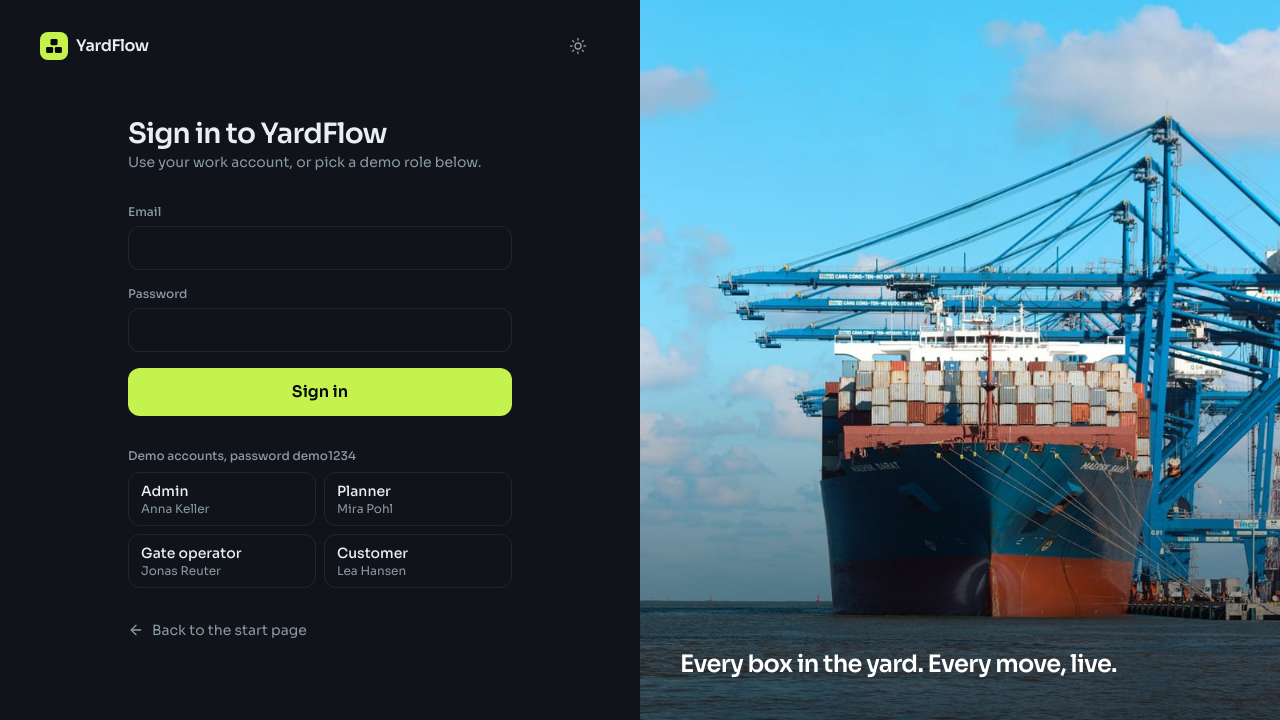
login page › shows validation errors next to the fields
Click the button "Sign in" at (320, 392), box [128, 368, 512, 416]
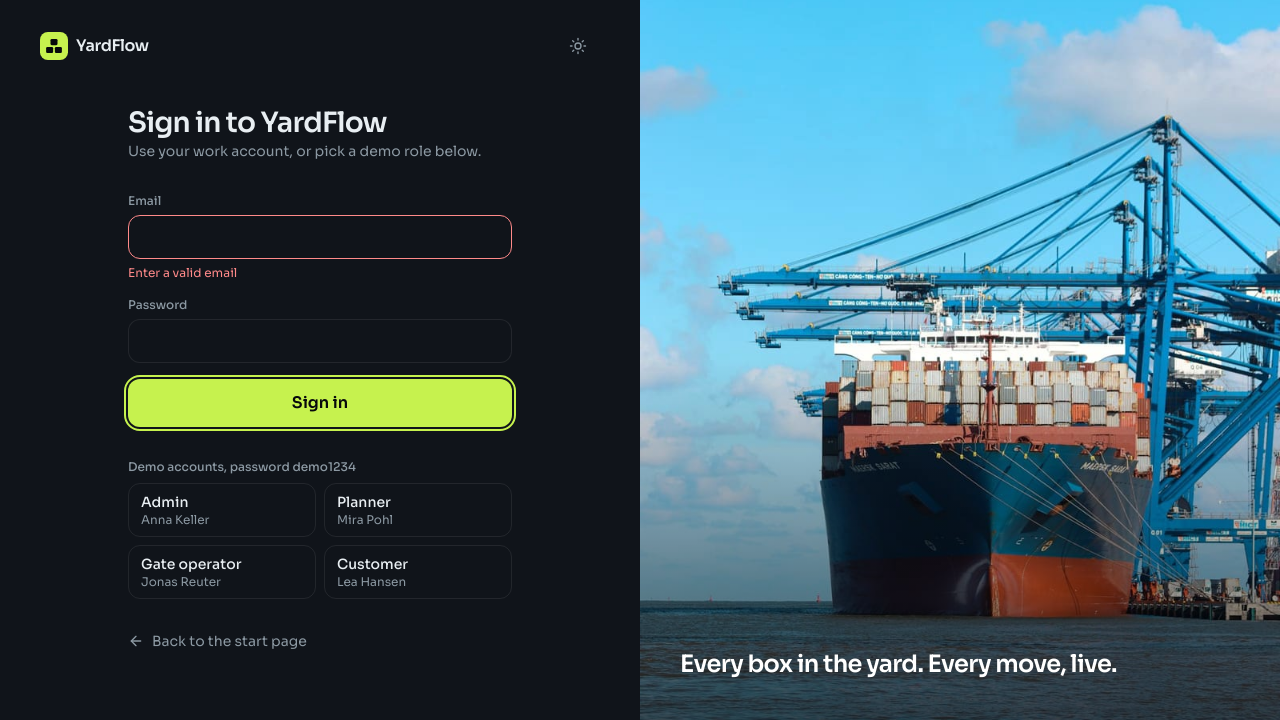
Expected: the text "Enter a valid email" is shown, [128, 265, 237, 280]
